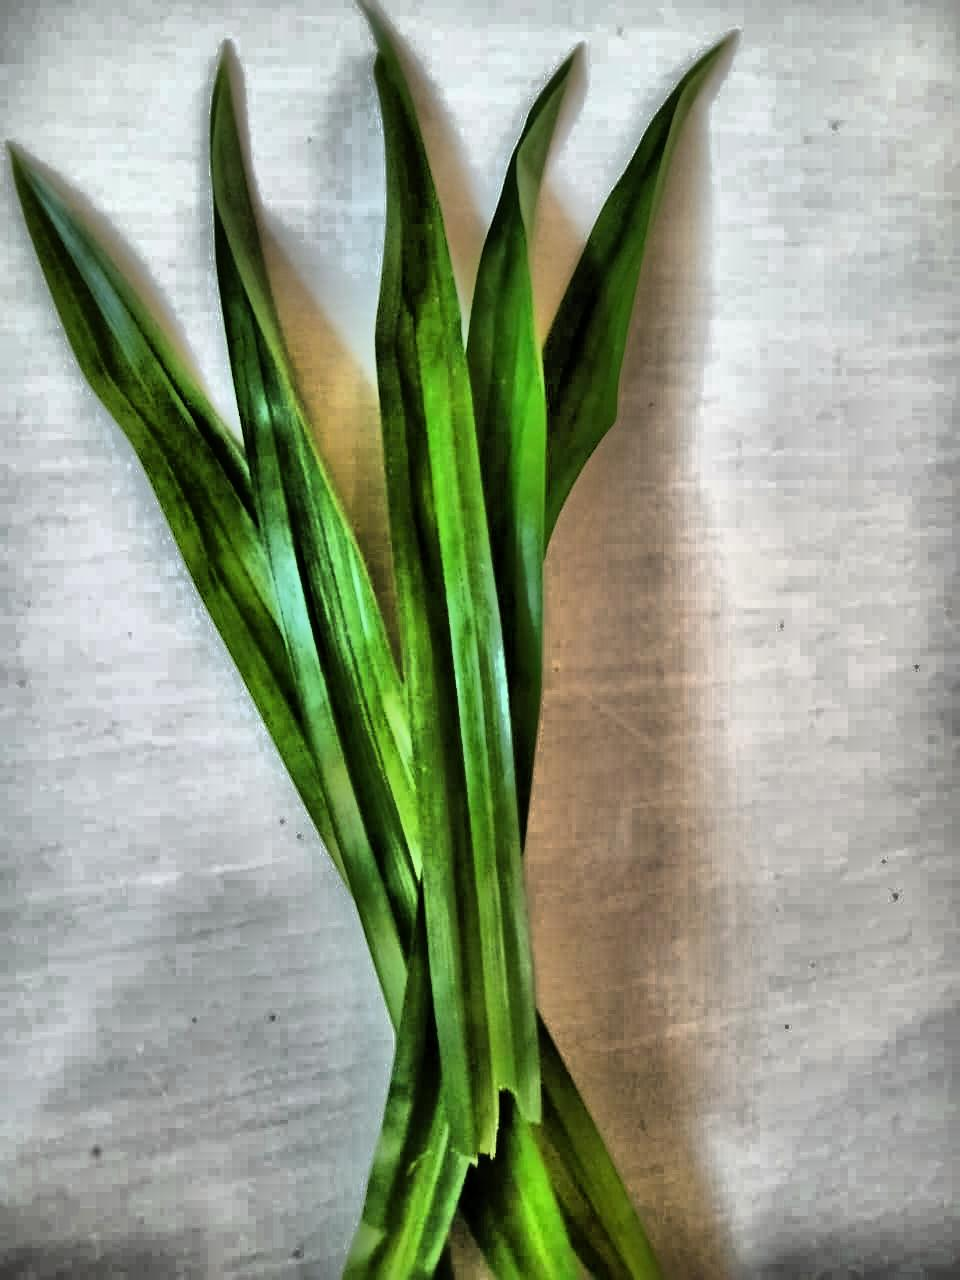daun pandan: (13, 11, 721, 1279)
